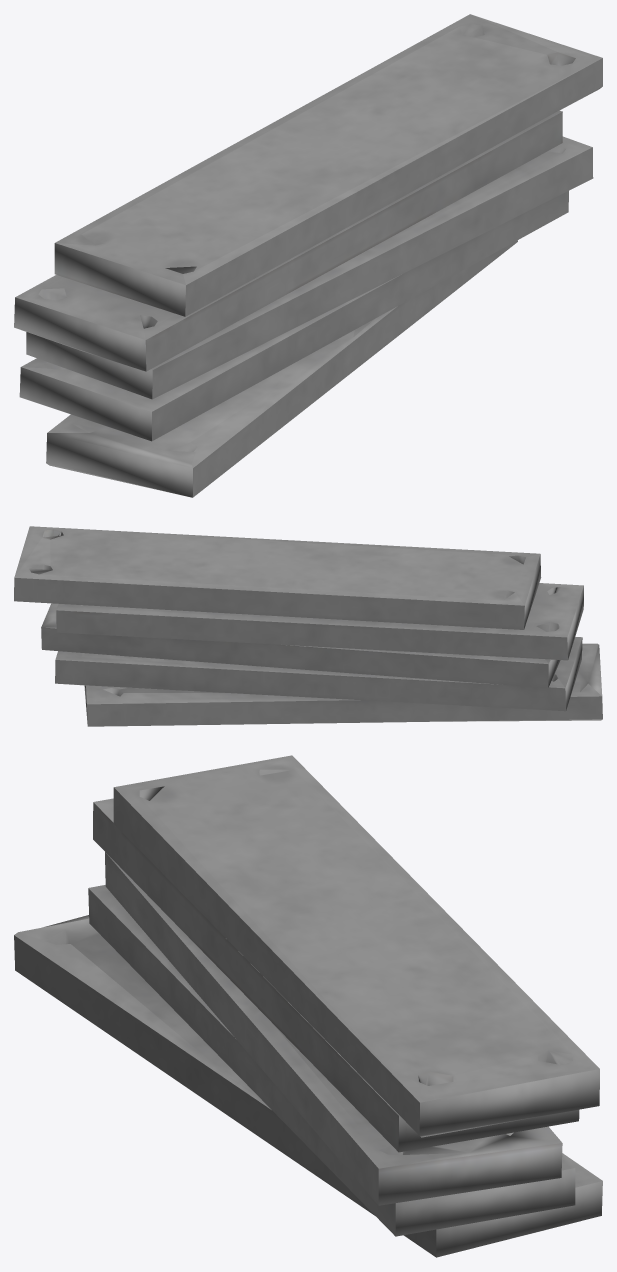
File: MetalPlating.fbx
3 views of the same model, one above another, from view 1: azimuth 30°, elevation 25°; view 2: azimuth 150°, elevation 25°; view 3: azimuth 270°, elevation 25° (orthographic). The views are drawn at different scales.
Parts seen in each view (by area): view 1: MetalPlating; view 2: MetalPlating; view 3: MetalPlating.
Boxes of the visible parts, x1=… form: MetalPlating: x1=14, y1=14, x2=602, y2=497; MetalPlating: x1=14, y1=526, x2=602, y2=726; MetalPlating: x1=14, y1=755, x2=602, y2=1257.
Bounding box in the file's own units: 0.2512 × 0.064 × 0.1656.
